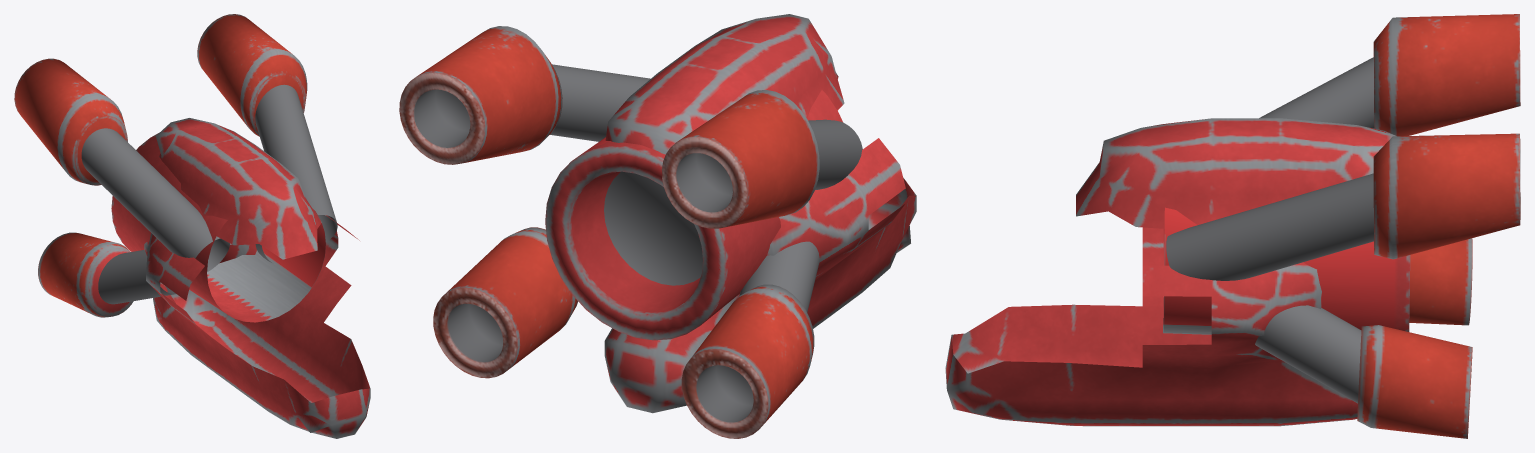
Rendered from spaceship_afterburner.obj.
The picture shows the model from 3 angles, left to right: view 1: azimuth 30°, elevation 25°; view 2: azimuth 150°, elevation 25°; view 3: azimuth 270°, elevation 25°; orthographic projection. The views are drawn at different scales.
Parts seen in each view (by area): view 1: afterburner_Mesh.005; view 2: afterburner_Mesh.005; view 3: afterburner_Mesh.005.
Part boxes in pixels (left/top/right/bottom): afterburner_Mesh.005: left=14, top=14, right=370, bottom=438; afterburner_Mesh.005: left=399, top=14, right=916, bottom=438; afterburner_Mesh.005: left=945, top=14, right=1520, bottom=438.
Bounding box in the file's own units: 10.02 × 9.84 × 15.03.
Materials: 1 (1 with a texture image).
